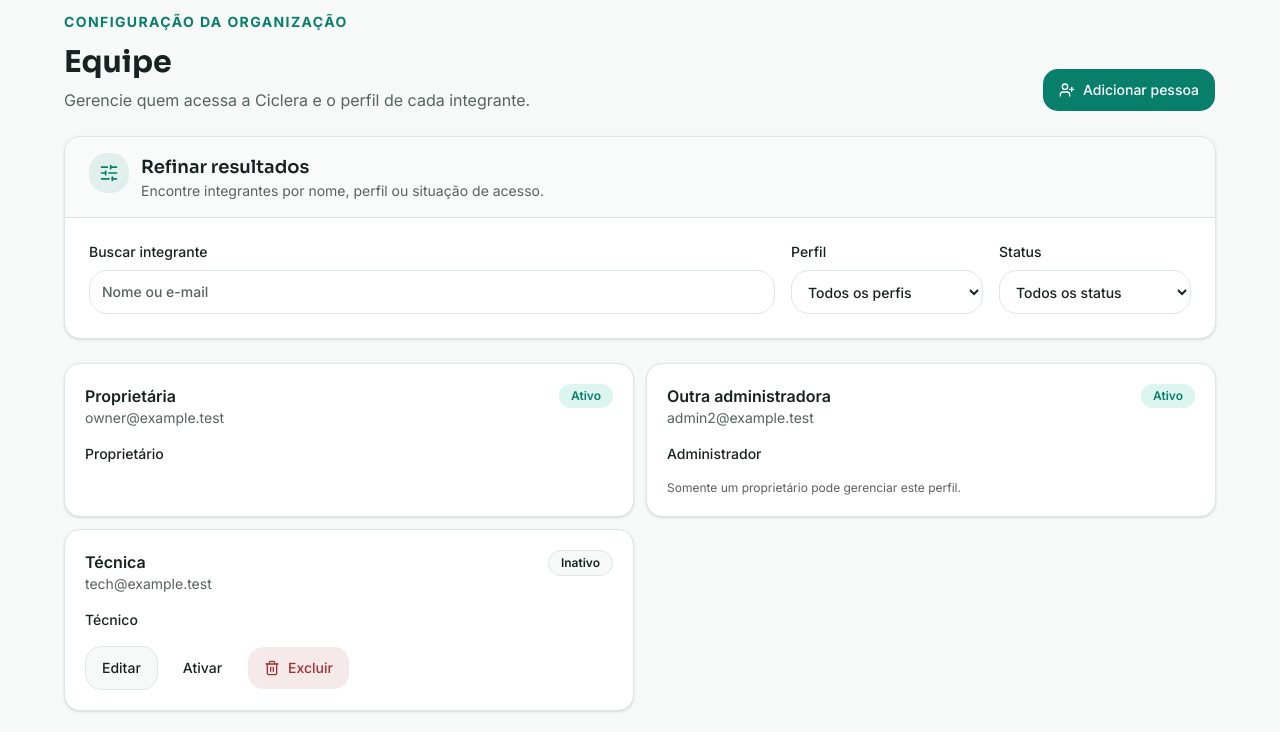
Test case: team management foundation › filters the team while typing or changing selects without submitting
Expected: the heading "Proprietária" is shown, [85, 386, 176, 406]
Type "tech@example.test" into the field with placeholder "Nome ou e-mail" at (432, 292), box [89, 270, 775, 314]
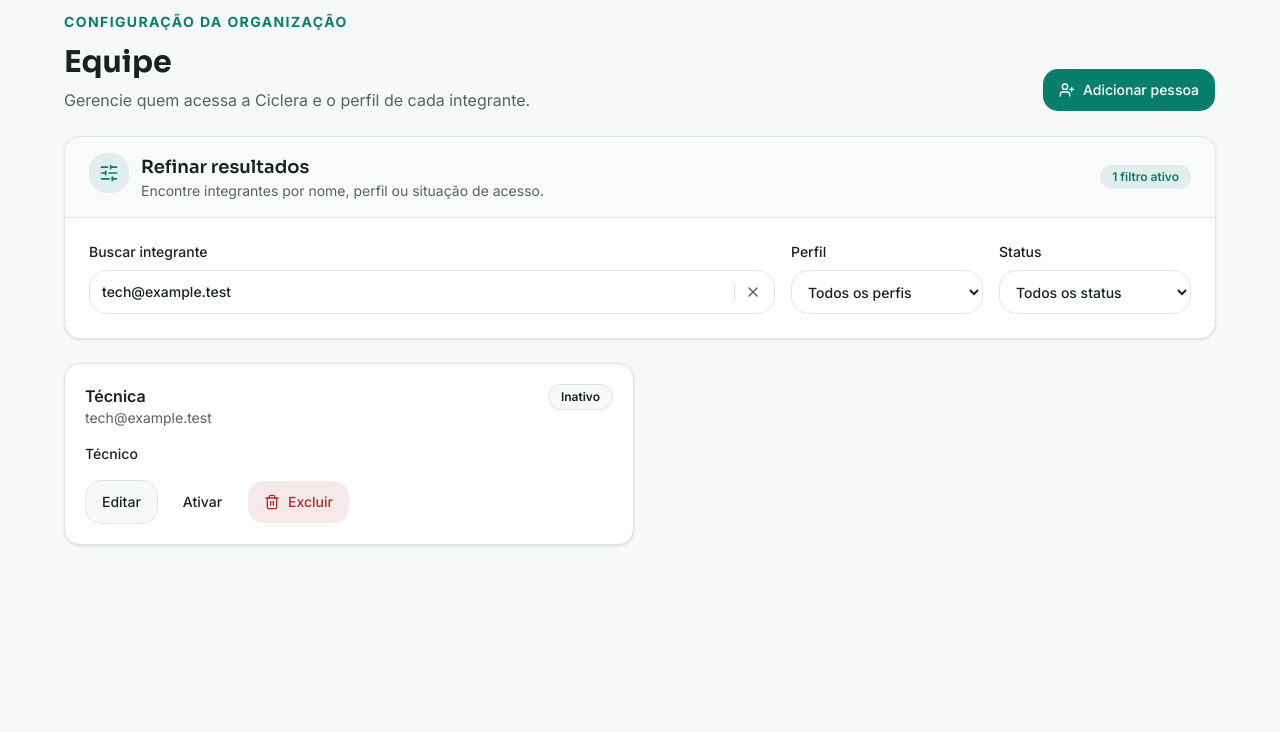
Expected: the heading "Técnica" is shown, [85, 386, 146, 406]
Result: the button named "Limpar busca" is shown
Result: the heading "Proprietária" is gone
Click the button named "Limpar busca" at (753, 292), box [735, 274, 771, 310]
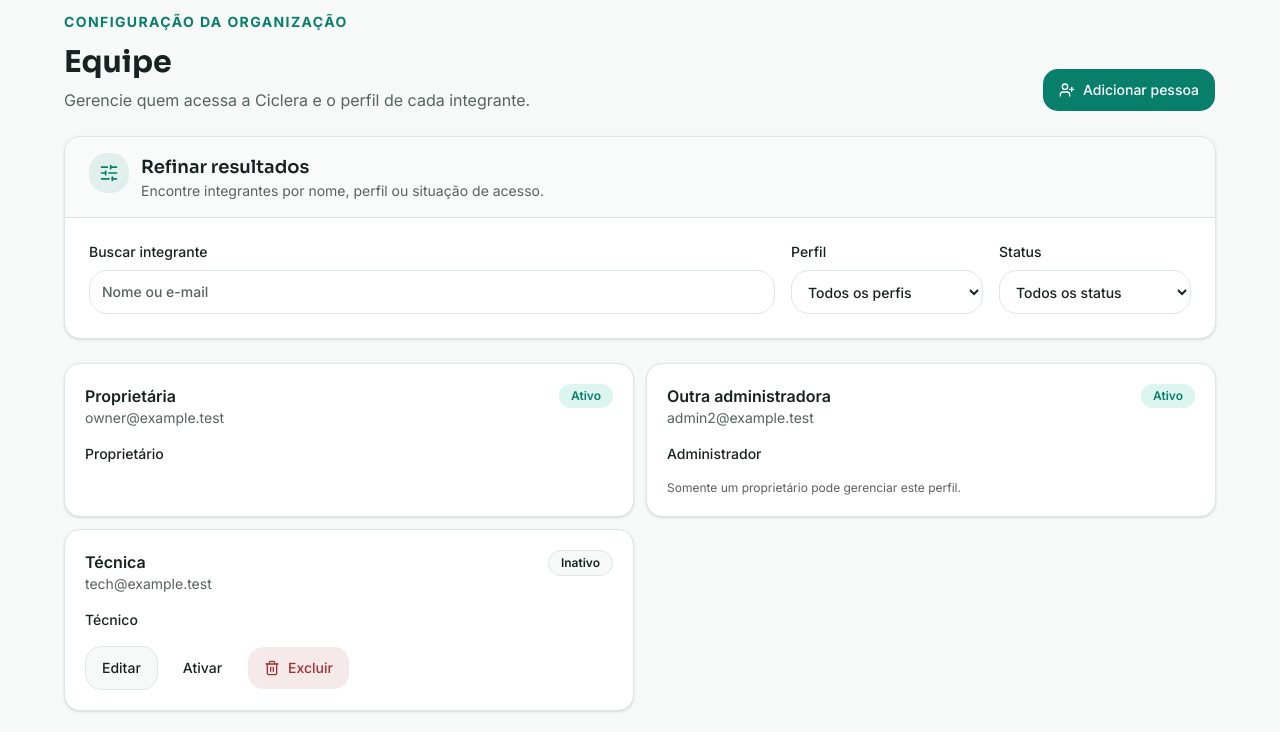
Result: the heading "Proprietária" is shown at [85, 386, 176, 406]
Select "Administrador" in the dropdown labelled "Perfil" at (887, 292), box [791, 270, 983, 314]
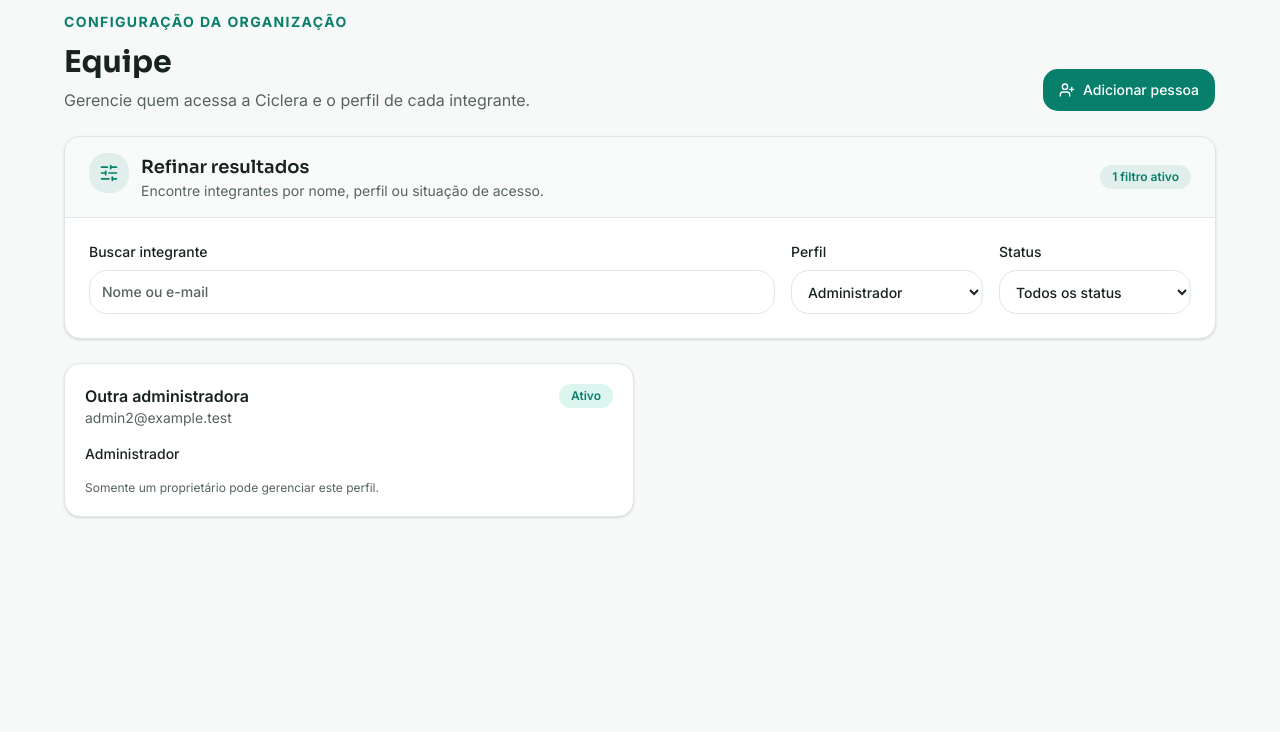
Result: the heading "Outra administradora" is shown at [85, 384, 249, 408]
Result: the heading "Técnica" is gone
Select "Todos os perfis" in the dropdown labelled "Perfil" at (887, 292), box [791, 270, 983, 314]
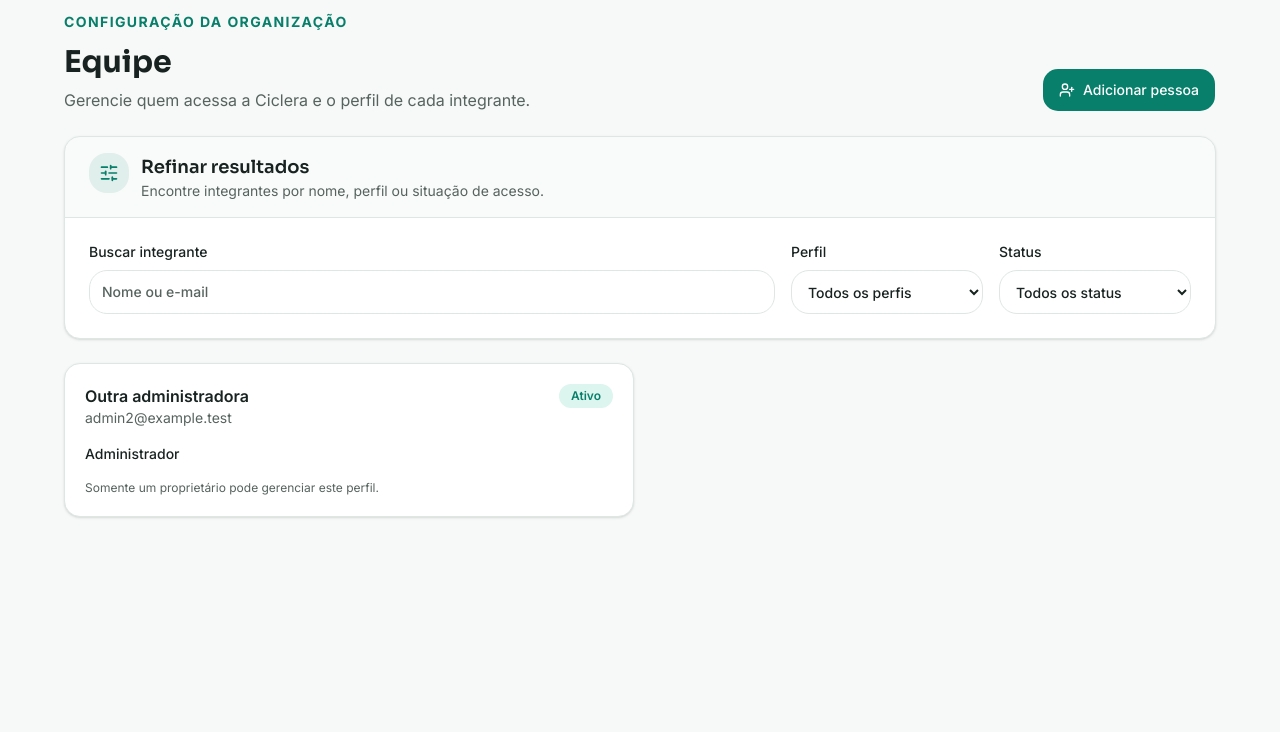
Select "Inativo" in the dropdown labelled "Status" at (1095, 292), box [999, 270, 1191, 314]
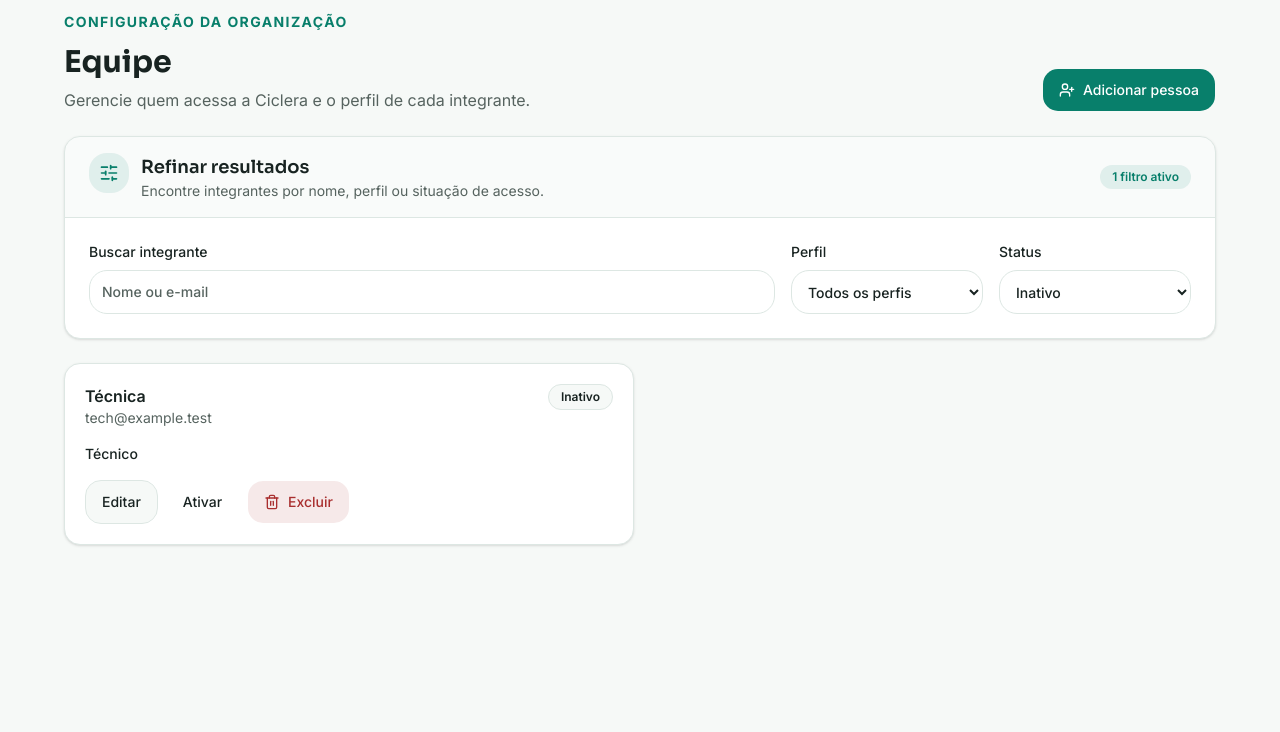
Expected: the heading "Proprietária" is not shown
Result: the heading "Técnica" is shown at [85, 386, 146, 406]
